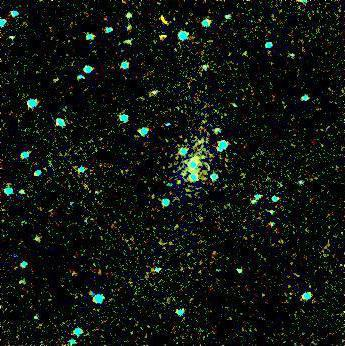star: (162, 167, 192, 197)
